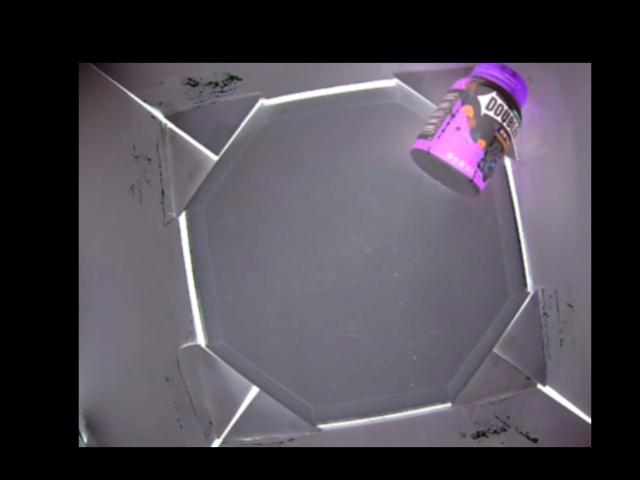Bottle: (408, 63, 529, 194)
